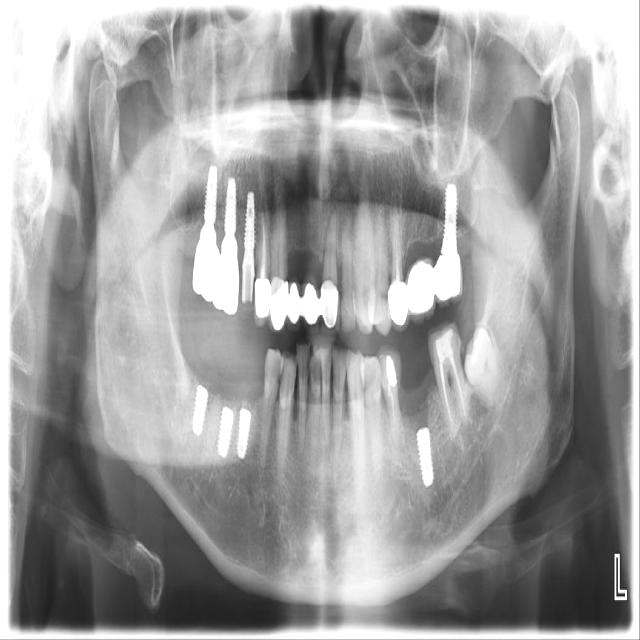Crown: (267, 275, 340, 336), (405, 256, 435, 324), (192, 239, 220, 304), (213, 253, 239, 315), (433, 255, 464, 305), (387, 280, 410, 332), (254, 277, 271, 328)
Filling: (427, 319, 461, 369), (377, 343, 401, 390)
Implant: (415, 427, 436, 486), (442, 184, 457, 253), (203, 166, 218, 223), (217, 407, 234, 457), (238, 410, 253, 458), (193, 386, 208, 434), (224, 179, 237, 234), (244, 192, 254, 254)
Periapical lesion: (469, 395, 490, 426), (295, 435, 306, 462), (391, 434, 402, 451)
Root Canal Treatment: (449, 356, 464, 408), (440, 361, 452, 424), (389, 386, 396, 436), (260, 223, 266, 279)
impacted tooth: (467, 326, 505, 411)
